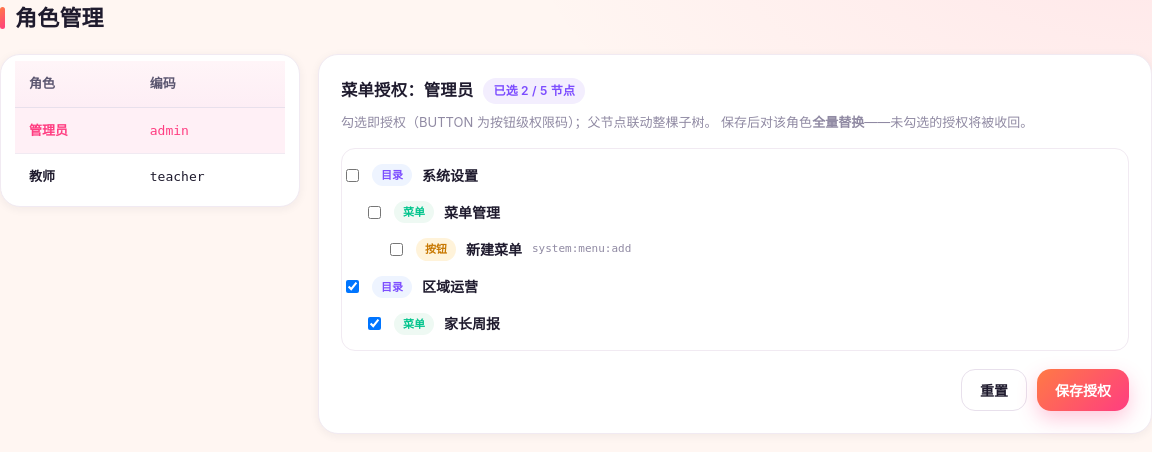
Test: SystemRole 角色管理页（T-AM4） › 切换角色重新拉取该角色授权
What coordinates should you click on to do the following:
click the row "教师 teacher"
I would click on:
 (150, 177)
Its box is [15, 154, 285, 200].
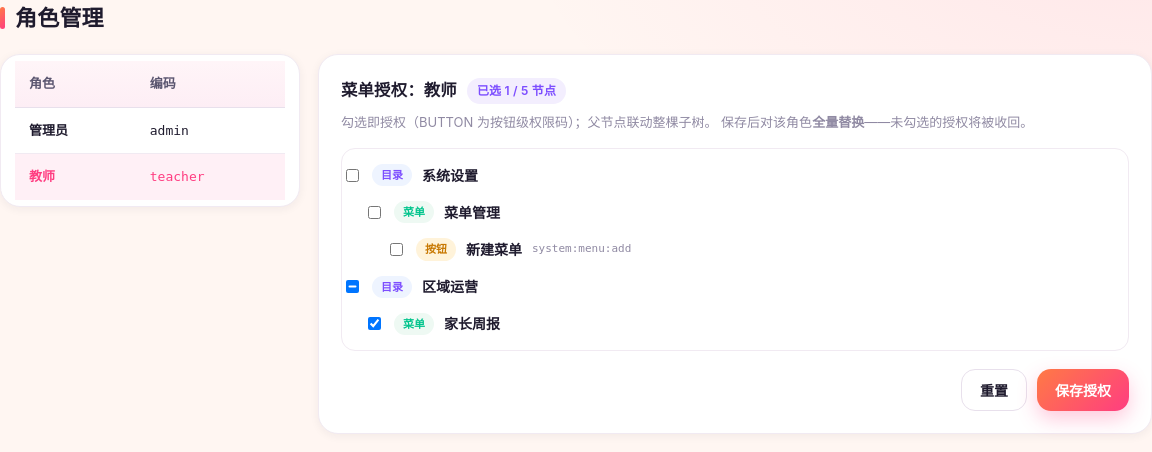
Expected: the text with class "tes-tag" reads "已选 1 / 5 节点", [477, 83, 556, 98]
